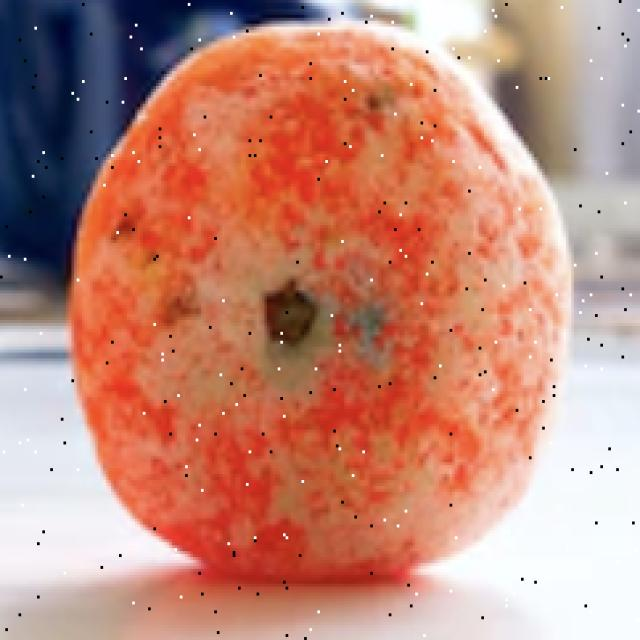Organik: (41, 1, 596, 616)
